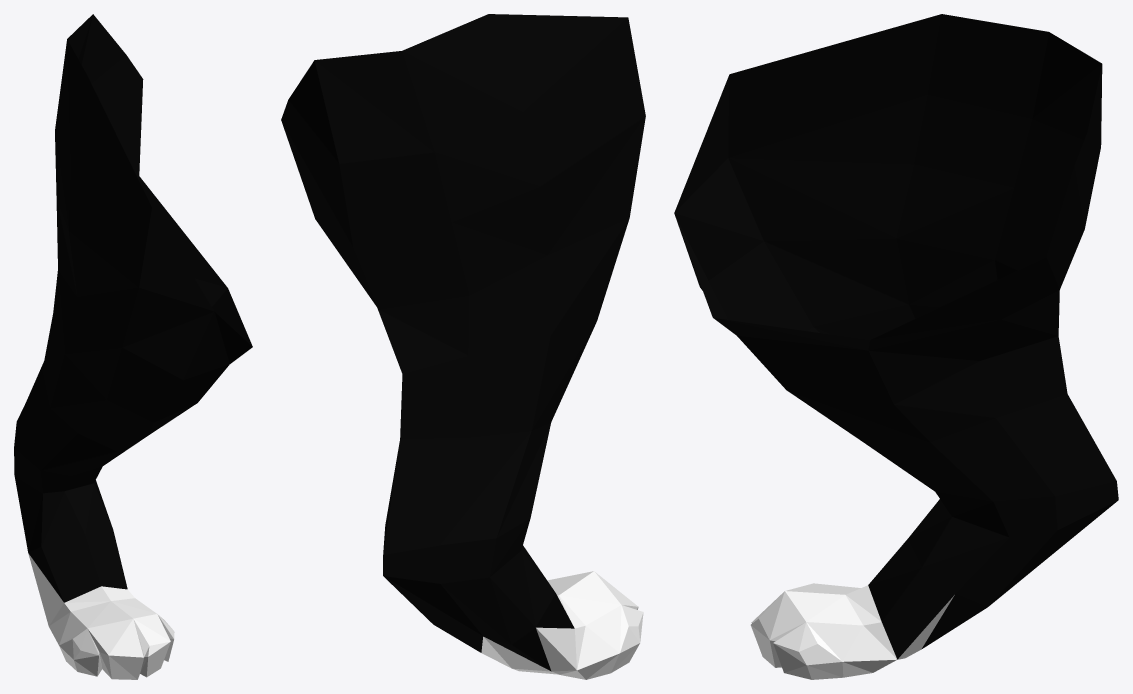
File: patatrasder.obj
3 renders of one model, left to right at view 1: azimuth 30°, elevation 25°; view 2: azimuth 150°, elevation 25°; view 3: azimuth 270°, elevation 25°, orthographic. The views are drawn at different scales.
Visible parts, largest first — view 1: cat_01_color05.004; view 2: cat_01_color05.004; view 3: cat_01_color05.004.
Boxes of the visible parts, <box> form: cat_01_color05.004: <box>14,14,252,679</box>; cat_01_color05.004: <box>281,14,645,679</box>; cat_01_color05.004: <box>674,14,1118,679</box>.
Size of the model in its own units: 0.3913 by 1.14 by 0.7022.
2 materials, 2 textured.
